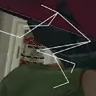hacks_2: (1, 4, 92, 89)
